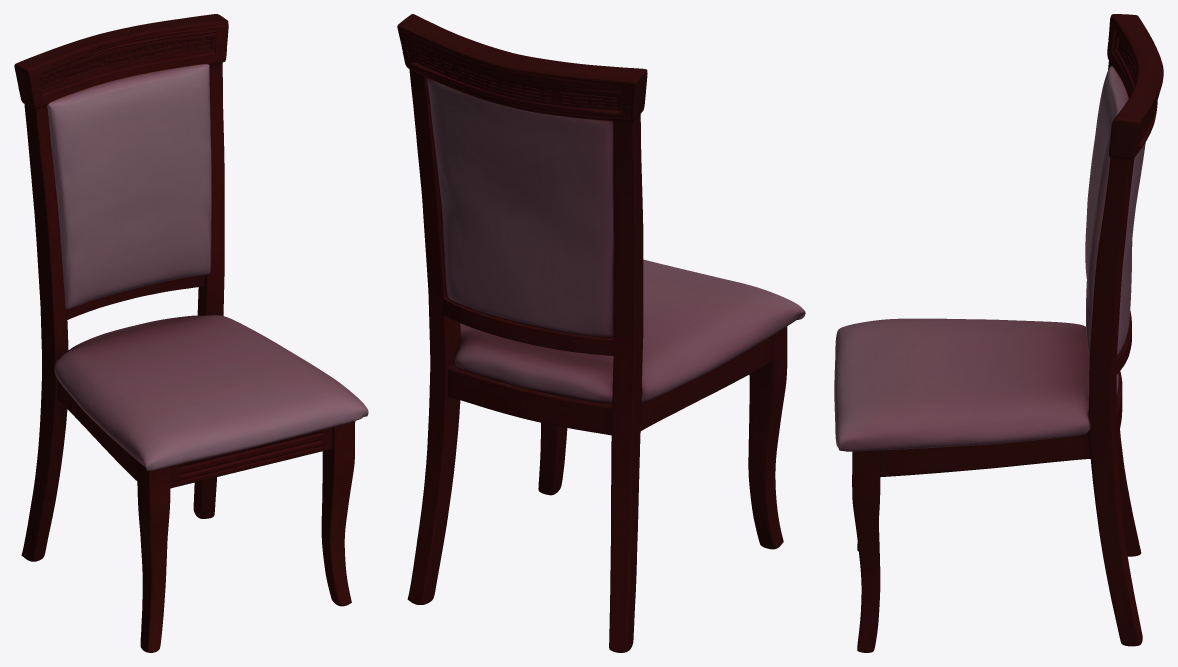
Rendered from Versal2.glb.
The picture shows the model from 3 angles, left to right: view 1: azimuth 30°, elevation 25°; view 2: azimuth 150°, elevation 25°; view 3: azimuth 270°, elevation 25°; orthographic projection. The views are drawn at different scales.
Parts seen in each view (by area): view 1: tripo_node_e0ac7a07-64e9-4222-a2bc-640b3cc3d6fe; view 2: tripo_node_e0ac7a07-64e9-4222-a2bc-640b3cc3d6fe; view 3: tripo_node_e0ac7a07-64e9-4222-a2bc-640b3cc3d6fe.
Boxes of the visible parts, left/top/right/bottom form: tripo_node_e0ac7a07-64e9-4222-a2bc-640b3cc3d6fe: left=14, top=14, right=368, bottom=652; tripo_node_e0ac7a07-64e9-4222-a2bc-640b3cc3d6fe: left=397, top=14, right=805, bottom=652; tripo_node_e0ac7a07-64e9-4222-a2bc-640b3cc3d6fe: left=834, top=14, right=1163, bottom=652.
Bounding box in the file's own units: 0.4589 × 0.9789 × 0.5486.
1 material, 1 textured.
